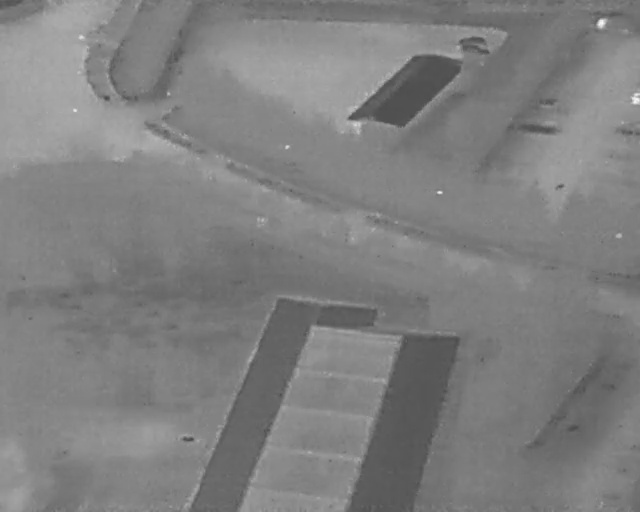Car: (461, 43, 491, 55), (458, 35, 487, 47)
